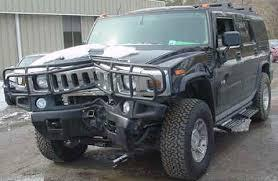bonnet-dent: (59, 45, 173, 65)
fender-dent: (179, 50, 217, 90)
front-bumper-dent: (37, 65, 124, 130)
